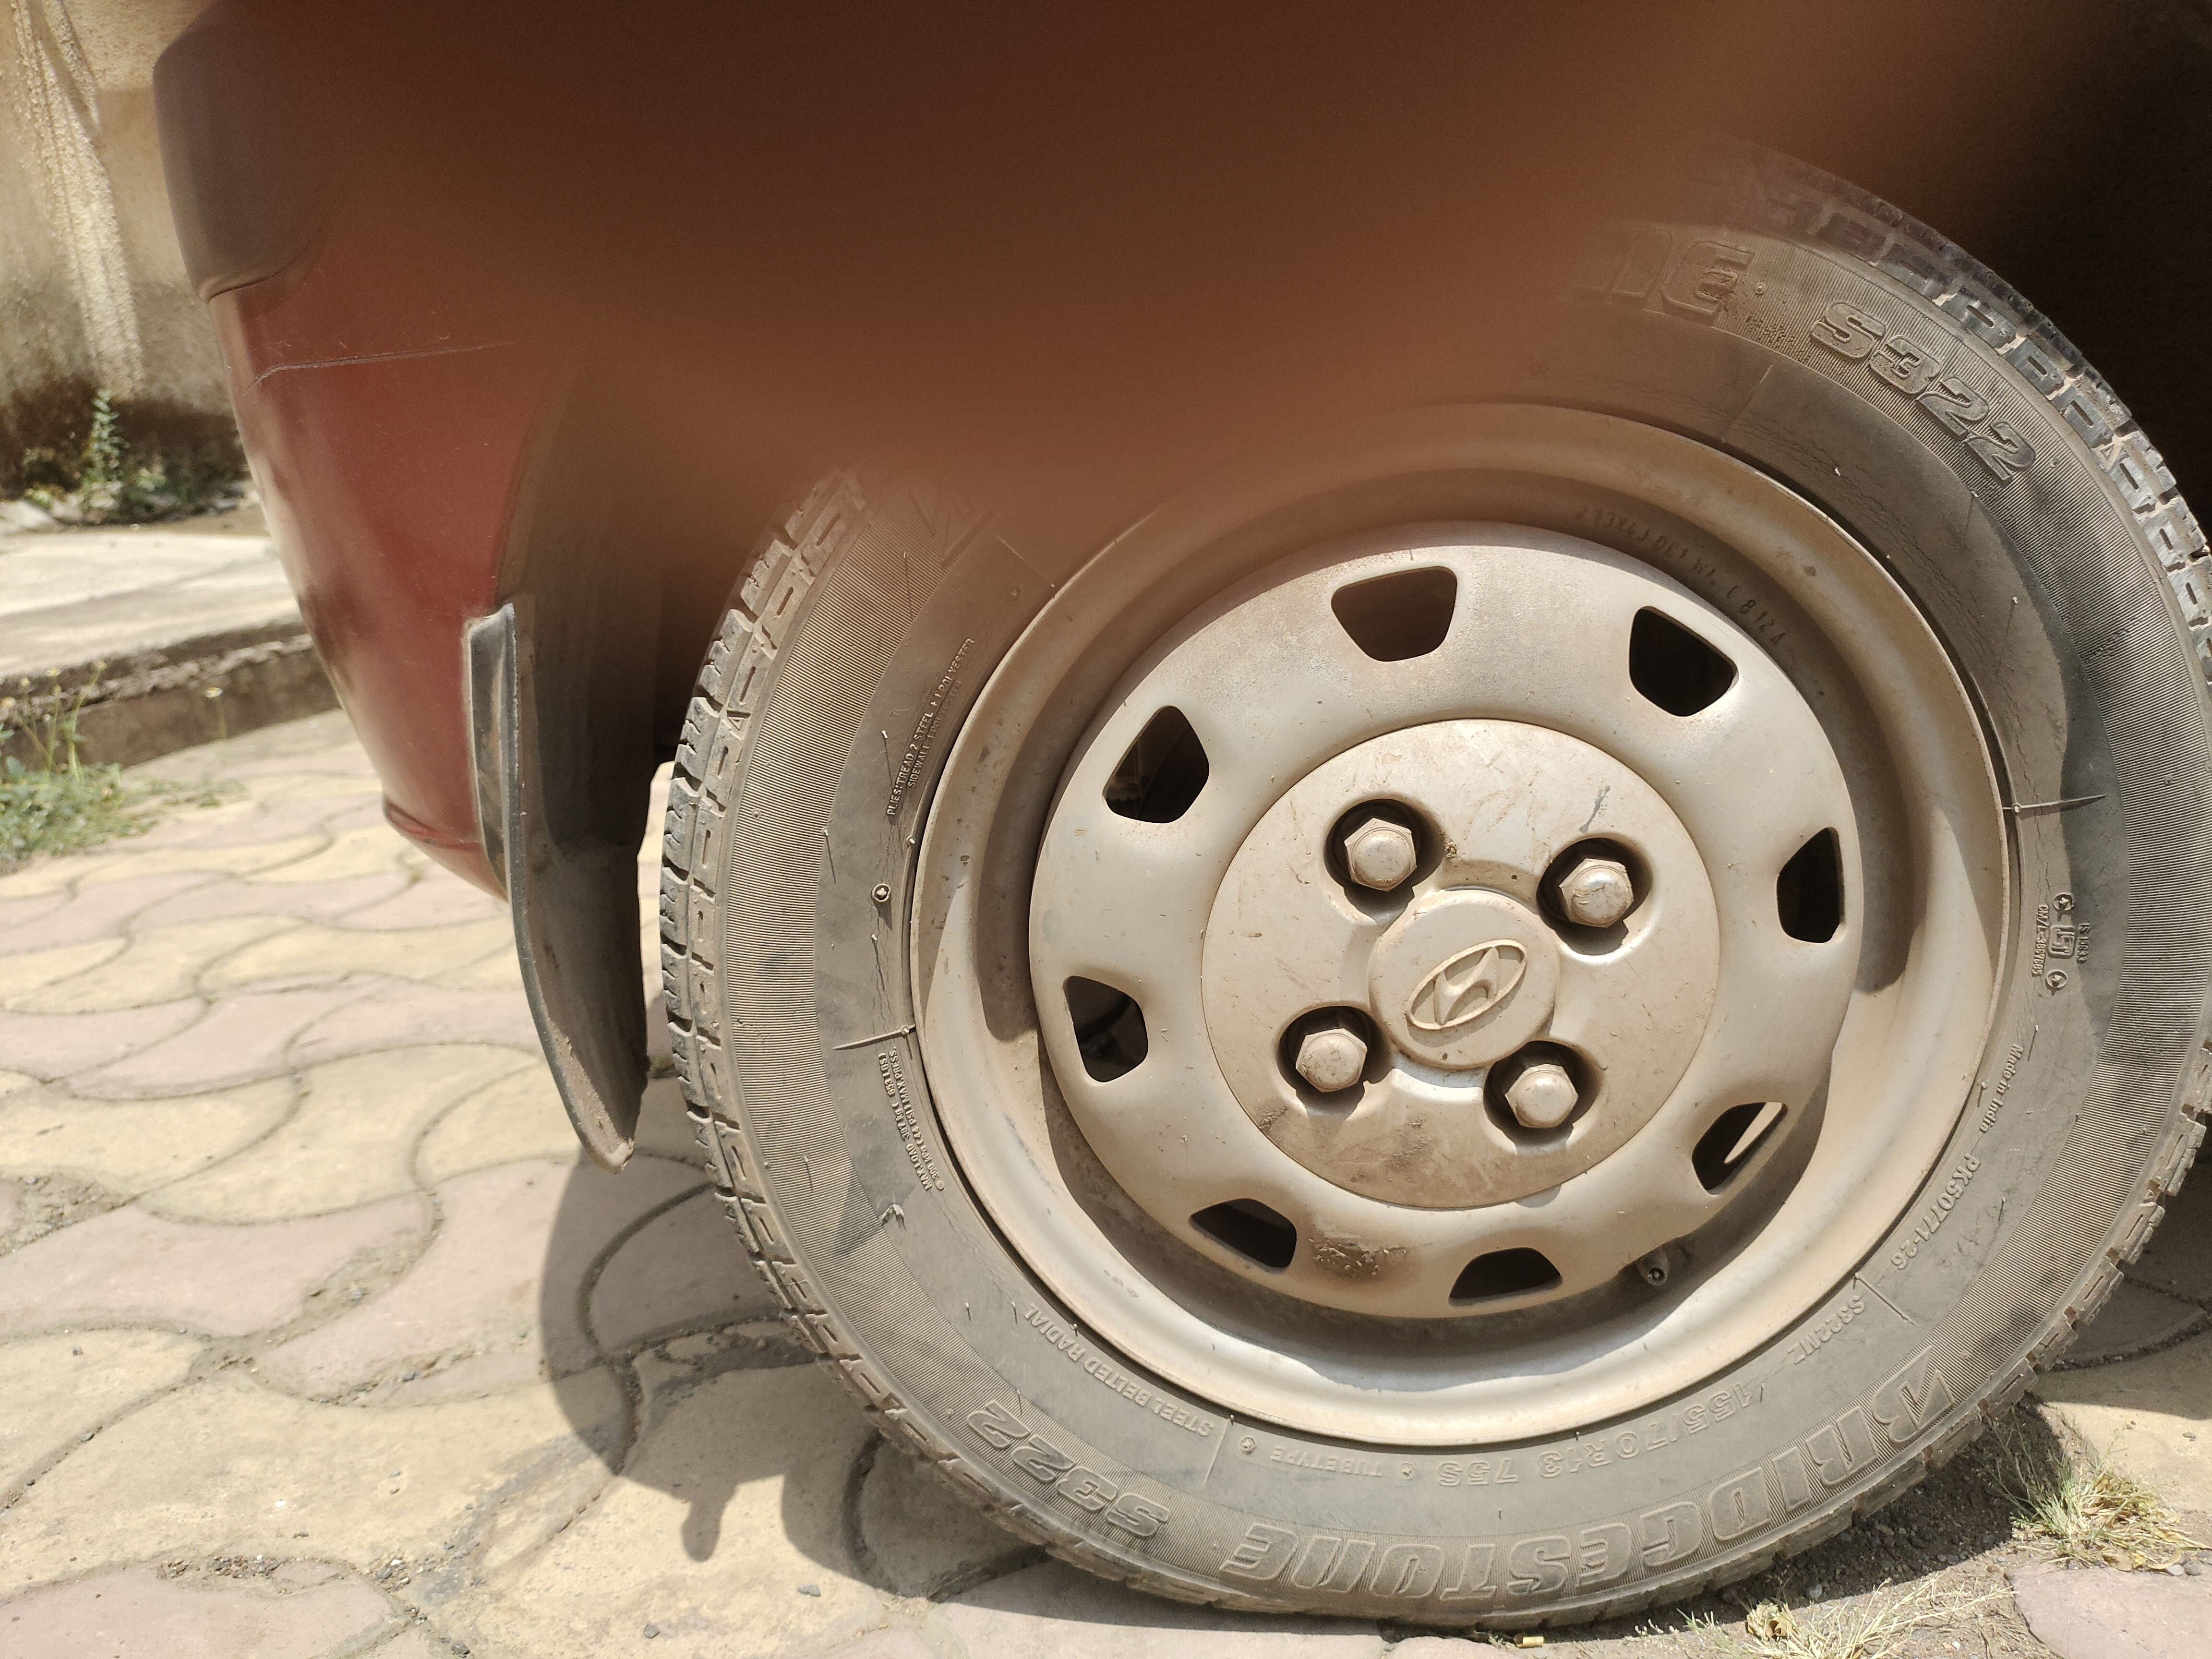l: (1517, 838, 1655, 962), (1315, 791, 1432, 931), (1470, 1039, 1604, 1157), (1266, 992, 1392, 1117)
